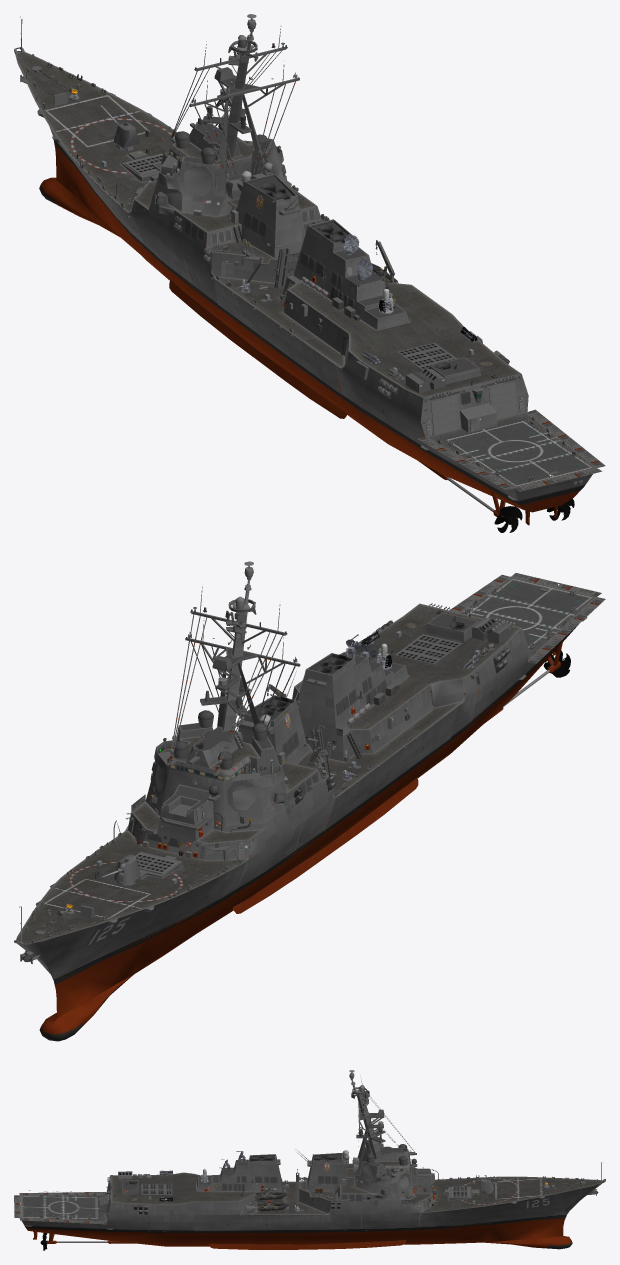
The picture shows the model from 3 angles, top to bottom: view 1: azimuth 30°, elevation 25°; view 2: azimuth 150°, elevation 25°; view 3: azimuth 270°, elevation 25°; orthographic projection. The views are drawn at different scales.
Parts seen in each view (by area): view 1: BurkeSource_Object_10.001, BurkeSource_Object_11.001, BurkeSource_Object_6.001, BurkeSource_Object_16.001; view 2: BurkeSource_Object_10.001, BurkeSource_Object_11.001, BurkeSource_Object_6.001; view 3: BurkeSource_Object_10.001, BurkeSource_Object_11.001, BurkeSource_Object_6.001.
Part boxes in pixels (<box>): BurkeSource_Object_10.001: <box>14,14,596,525</box>; BurkeSource_Object_11.001: <box>38,50,605,491</box>; BurkeSource_Object_6.001: <box>113,123,279,196</box>; BurkeSource_Object_16.001: <box>344,233,574,532</box>; BurkeSource_Object_10.001: <box>14,561,596,1041</box>; BurkeSource_Object_11.001: <box>43,573,605,930</box>; BurkeSource_Object_6.001: <box>114,710,268,883</box>; BurkeSource_Object_10.001: <box>19,1070,605,1249</box>; BurkeSource_Object_11.001: <box>14,1097,580,1224</box>; BurkeSource_Object_6.001: <box>362,1139,494,1191</box>.
Size of the model in its own units: 21.88 by 51.74 by 155.
12 materials, 6 textured.
